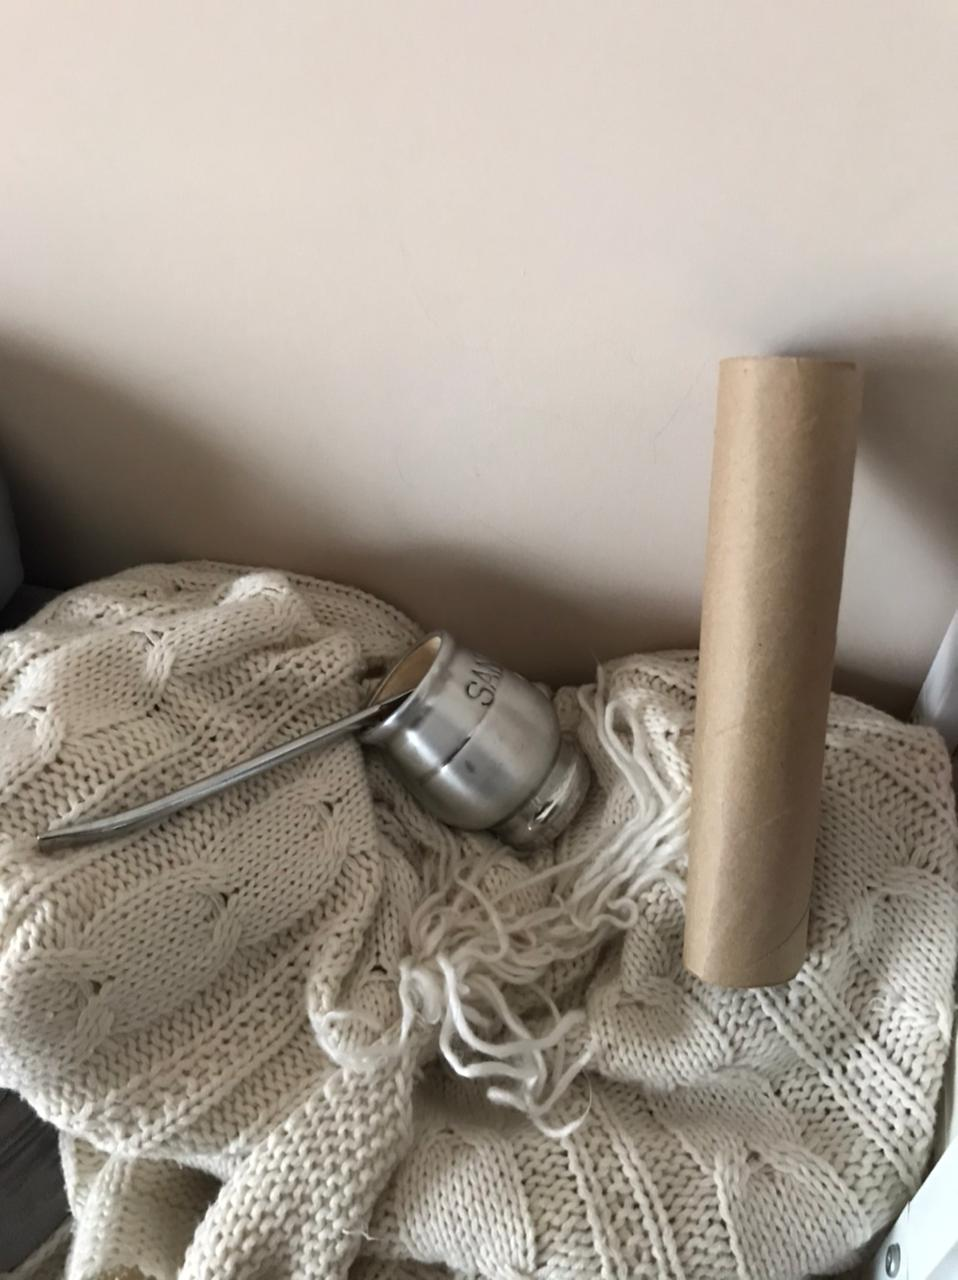mate: (46, 604, 599, 879)
